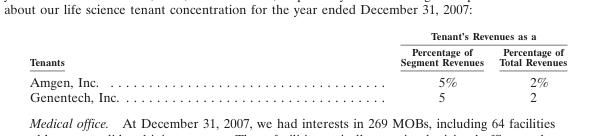table: (28, 29, 566, 104)
table column: (258, 29, 490, 104), (28, 29, 258, 104), (490, 29, 566, 104)
table column header: (28, 29, 566, 70)
table row: (28, 43, 566, 70), (28, 70, 566, 88), (28, 88, 566, 104), (28, 29, 566, 43)
table spanning cell: (28, 29, 258, 70), (258, 29, 566, 43)
